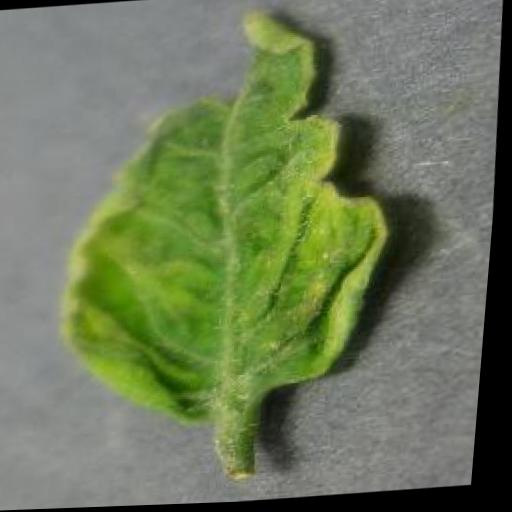Yellow Leaf Curl Virus: (50, 0, 417, 424)
